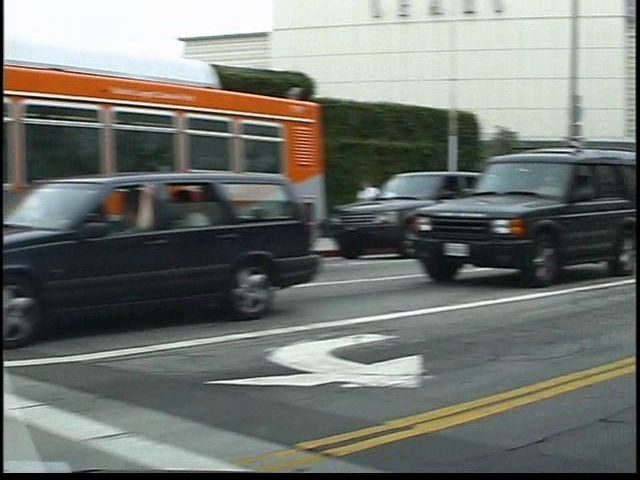person: (374, 176, 403, 244)
